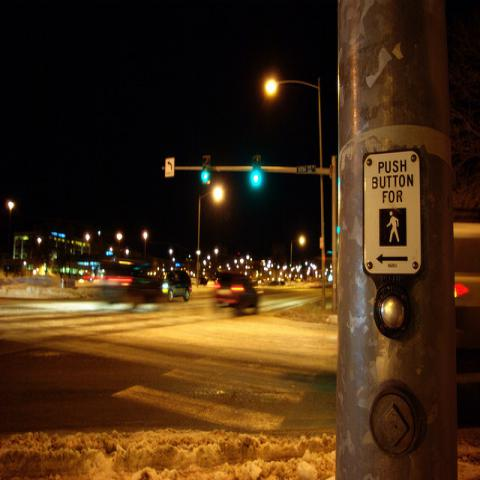car: (216, 273, 256, 308), (156, 270, 192, 302), (80, 272, 94, 282), (268, 281, 279, 286), (280, 280, 285, 285)
